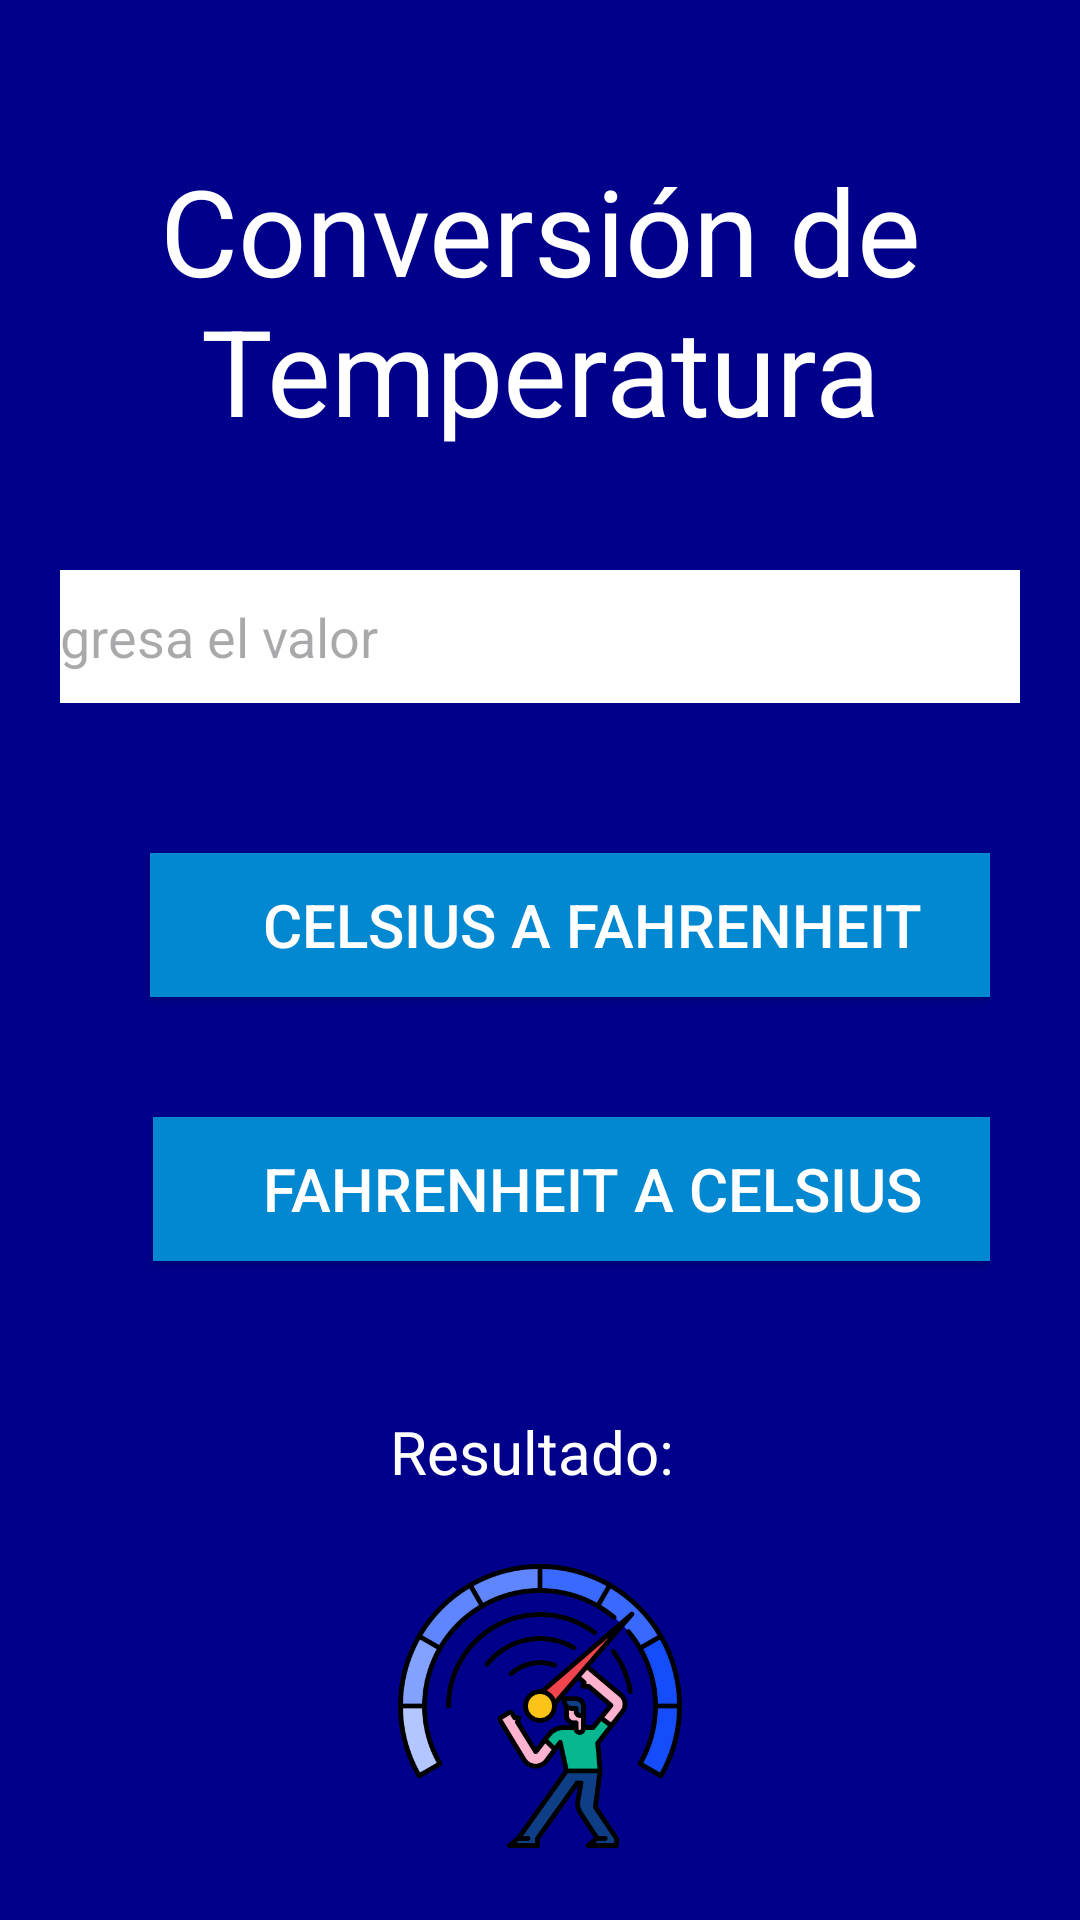

Named icons in this screenshot (1080px×1920px) and their centers, (x,y):
temperatua: (540,1706)
